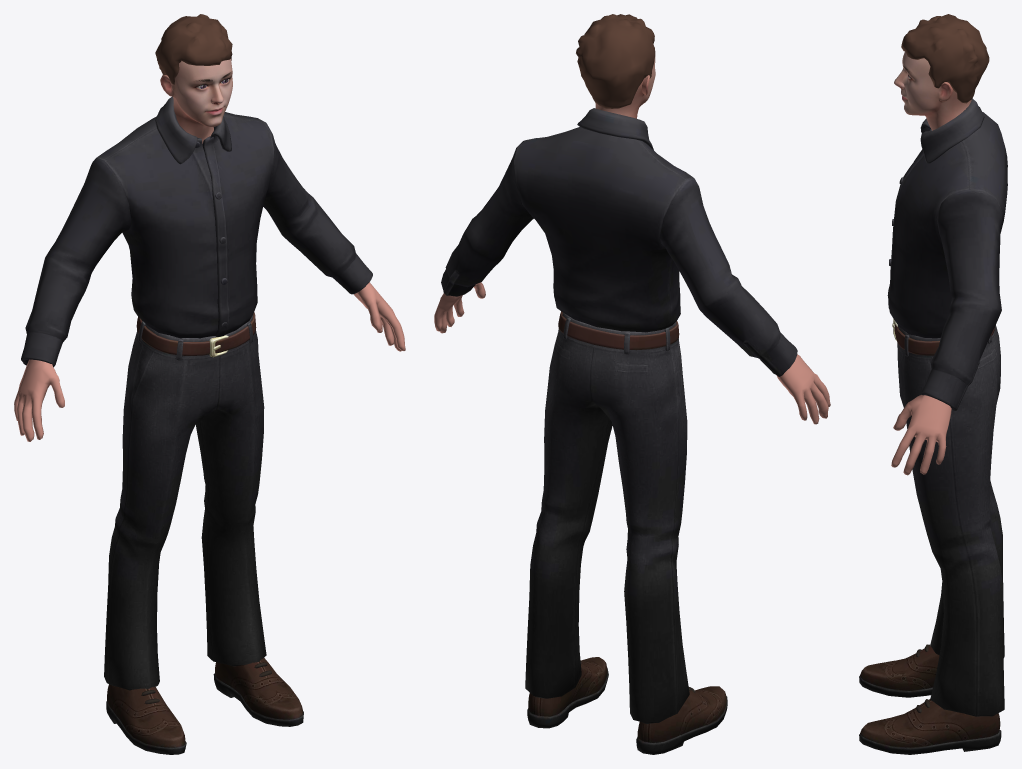
Rendered from avatar.fbx.
The picture shows the model from 3 angles, left to right: view 1: azimuth 30°, elevation 25°; view 2: azimuth 150°, elevation 25°; view 3: azimuth 270°, elevation 25°; orthographic projection.
Parts seen in each view (by area): view 1: Wolf3D_Outfit_Top, Wolf3D_Outfit_Bottom, Wolf3D_Outfit_Footwear, Wolf3D_Body, Wolf3D_Head, Wolf3D_Hair; view 2: Wolf3D_Outfit_Bottom, Wolf3D_Outfit_Top, Wolf3D_Outfit_Footwear, Wolf3D_Hair, Wolf3D_Body, Wolf3D_Head; view 3: Wolf3D_Outfit_Top, Wolf3D_Outfit_Bottom, Wolf3D_Outfit_Footwear, Wolf3D_Hair, Wolf3D_Body, Wolf3D_Head.
Boxes of the visible parts, x1,y1,x2,y2 form: Wolf3D_Outfit_Top: [21, 96, 372, 367]; Wolf3D_Outfit_Bottom: [104, 312, 266, 690]; Wolf3D_Outfit_Footwear: [106, 657, 303, 754]; Wolf3D_Body: [14, 282, 405, 441]; Wolf3D_Head: [160, 59, 232, 143]; Wolf3D_Hair: [155, 14, 232, 84]; Wolf3D_Outfit_Bottom: [525, 311, 689, 723]; Wolf3D_Outfit_Top: [441, 108, 797, 376]; Wolf3D_Outfit_Footwear: [527, 657, 727, 754]; Wolf3D_Hair: [576, 14, 655, 108]; Wolf3D_Body: [434, 282, 830, 424]; Wolf3D_Head: [595, 57, 655, 118]; Wolf3D_Outfit_Top: [887, 98, 1007, 410]; Wolf3D_Outfit_Bottom: [892, 319, 1004, 716]; Wolf3D_Outfit_Footwear: [859, 644, 1001, 754]; Wolf3D_Hair: [901, 14, 989, 103]; Wolf3D_Body: [891, 395, 951, 475]; Wolf3D_Head: [894, 51, 971, 130].
Size of the model in its own units: 1.06 by 1.86 by 0.3595.
Materials: 8 (8 with a texture image).
